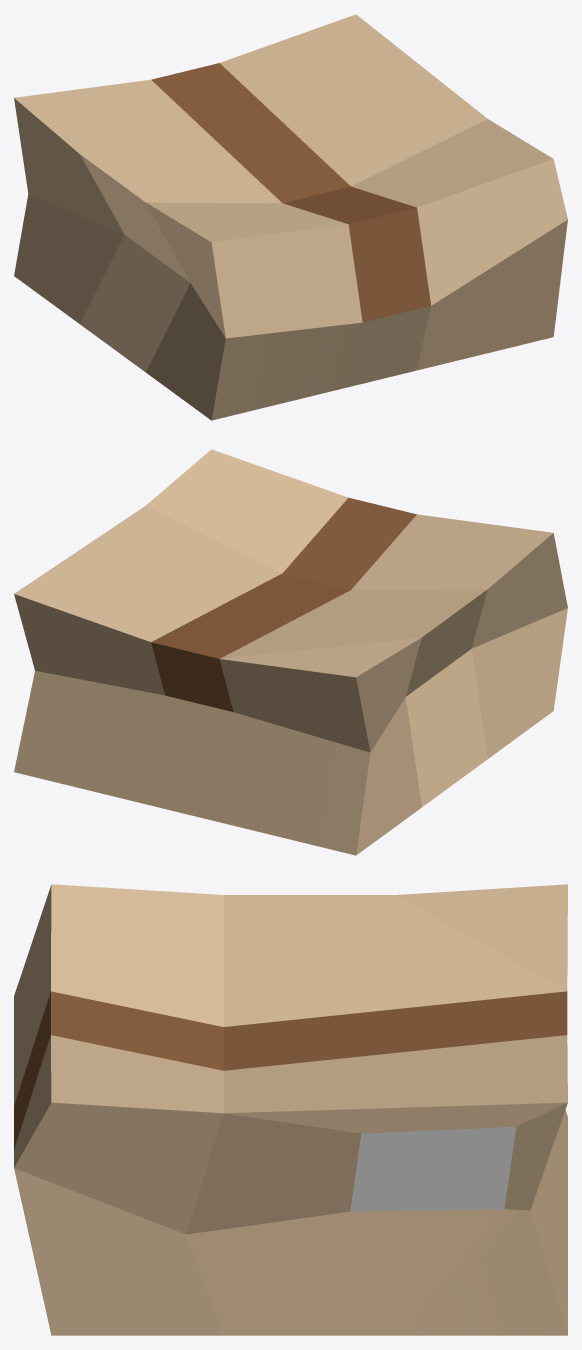
File: props_package-box-crashed.fbx
3 renders of one model, top to bottom at view 1: azimuth 30°, elevation 25°; view 2: azimuth 150°, elevation 25°; view 3: azimuth 270°, elevation 25°, orthographic. The views are drawn at different scales.
Parts seen in each view (by area): view 1: props_package_box_crashed; view 2: props_package_box_crashed; view 3: props_package_box_crashed.
Boxes of the visible parts, x1,y1,x2,y2 form: props_package_box_crashed: (14,14,567,420); props_package_box_crashed: (14,449,567,855); props_package_box_crashed: (14,884,567,1335).
Size of the model in its own units: 186 by 92.84 by 200.
